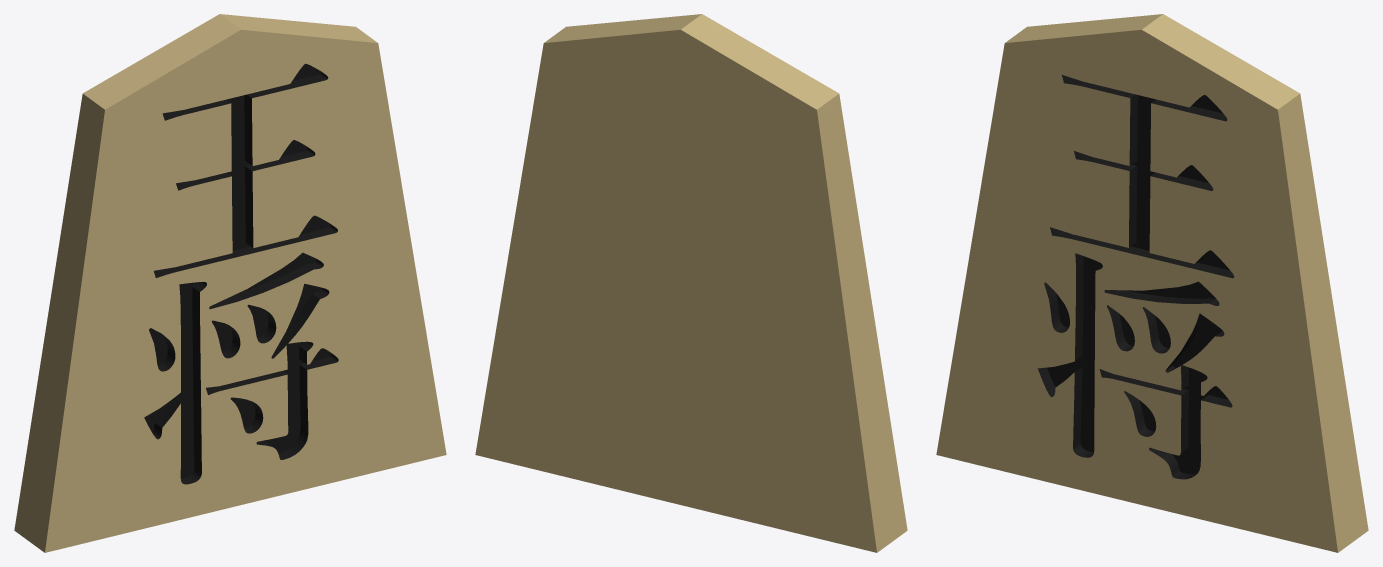
The model's file is 625_shougi_koma_oh.fbx.
The picture shows the model from 3 angles, left to right: view 1: azimuth 30°, elevation 25°; view 2: azimuth 150°, elevation 25°; view 3: azimuth 330°, elevation 25°; orthographic projection.
Parts seen in each view (by area): view 1: oh; view 2: oh; view 3: oh.
Boxes of the visible parts, x1=… form: oh: x1=14, y1=14, x2=446, y2=552; oh: x1=475, y1=14, x2=907, y2=552; oh: x1=936, y1=14, x2=1368, y2=552.
Bounding box in the file's own units: 3.04 × 3.4 × 0.4.
